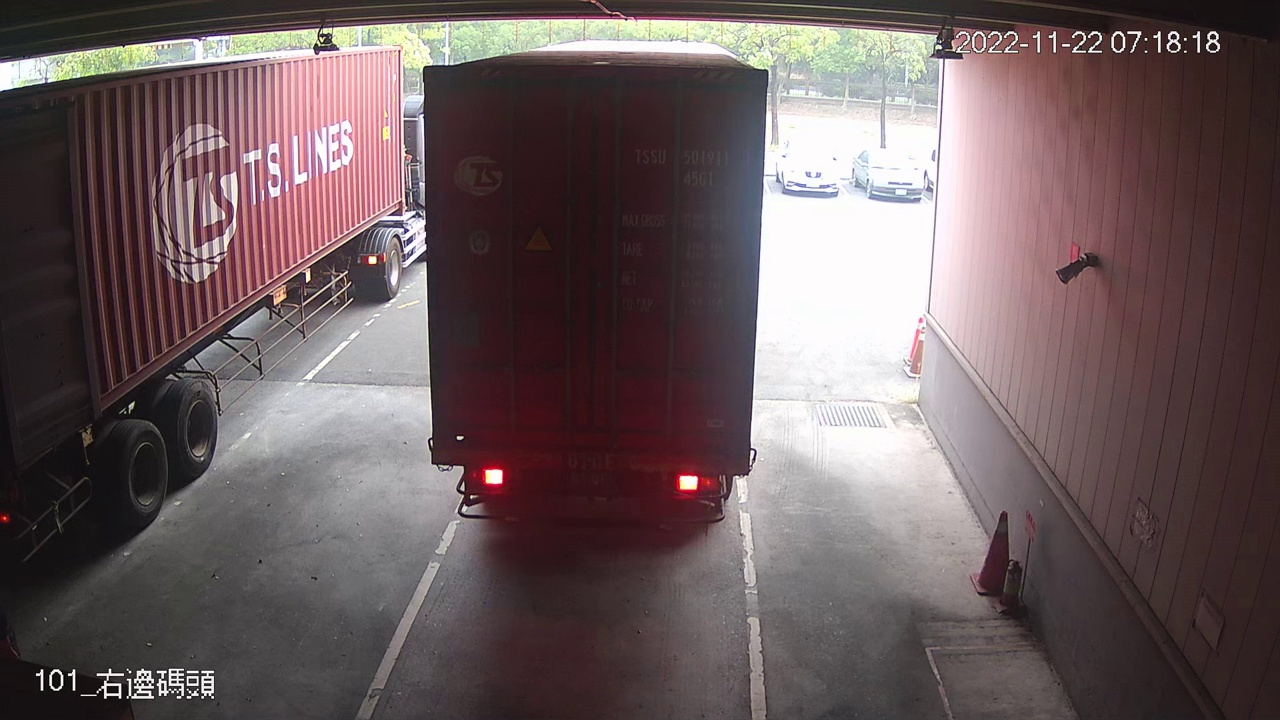container: (629, 142, 754, 193)
